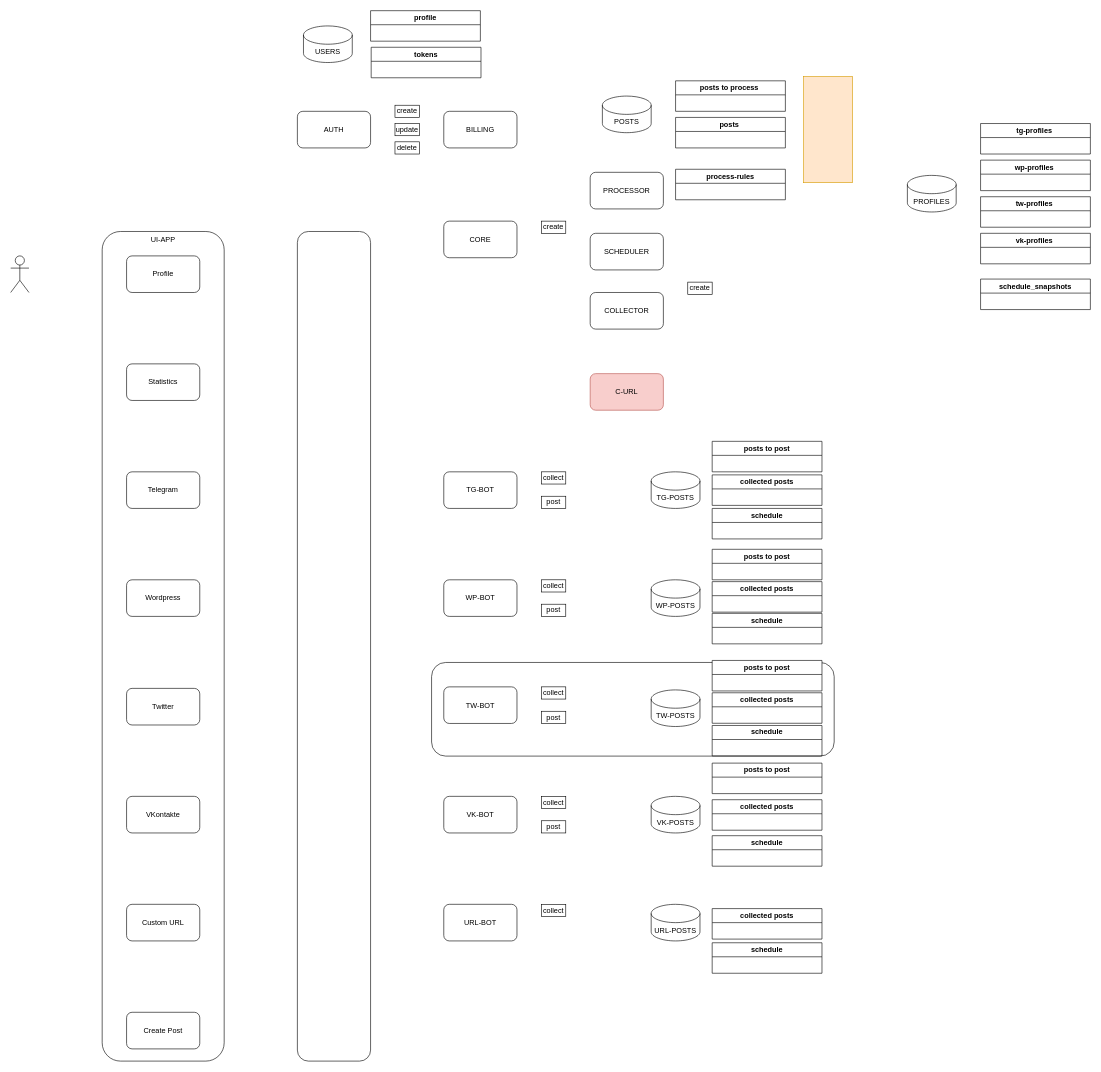
The diagram is 1101 pixels wide and 1072 high, and some of its shapes have lost their labels. The shapes that lost their labels are listed below. From the top down, each one's centre as x and y in pixels, then its label:
At (x=827, y=129): "new collected processing ready to post posted done archived".
At (x=19, y=273): "Actor".
At (x=334, y=646): "API-GATEWAY".
